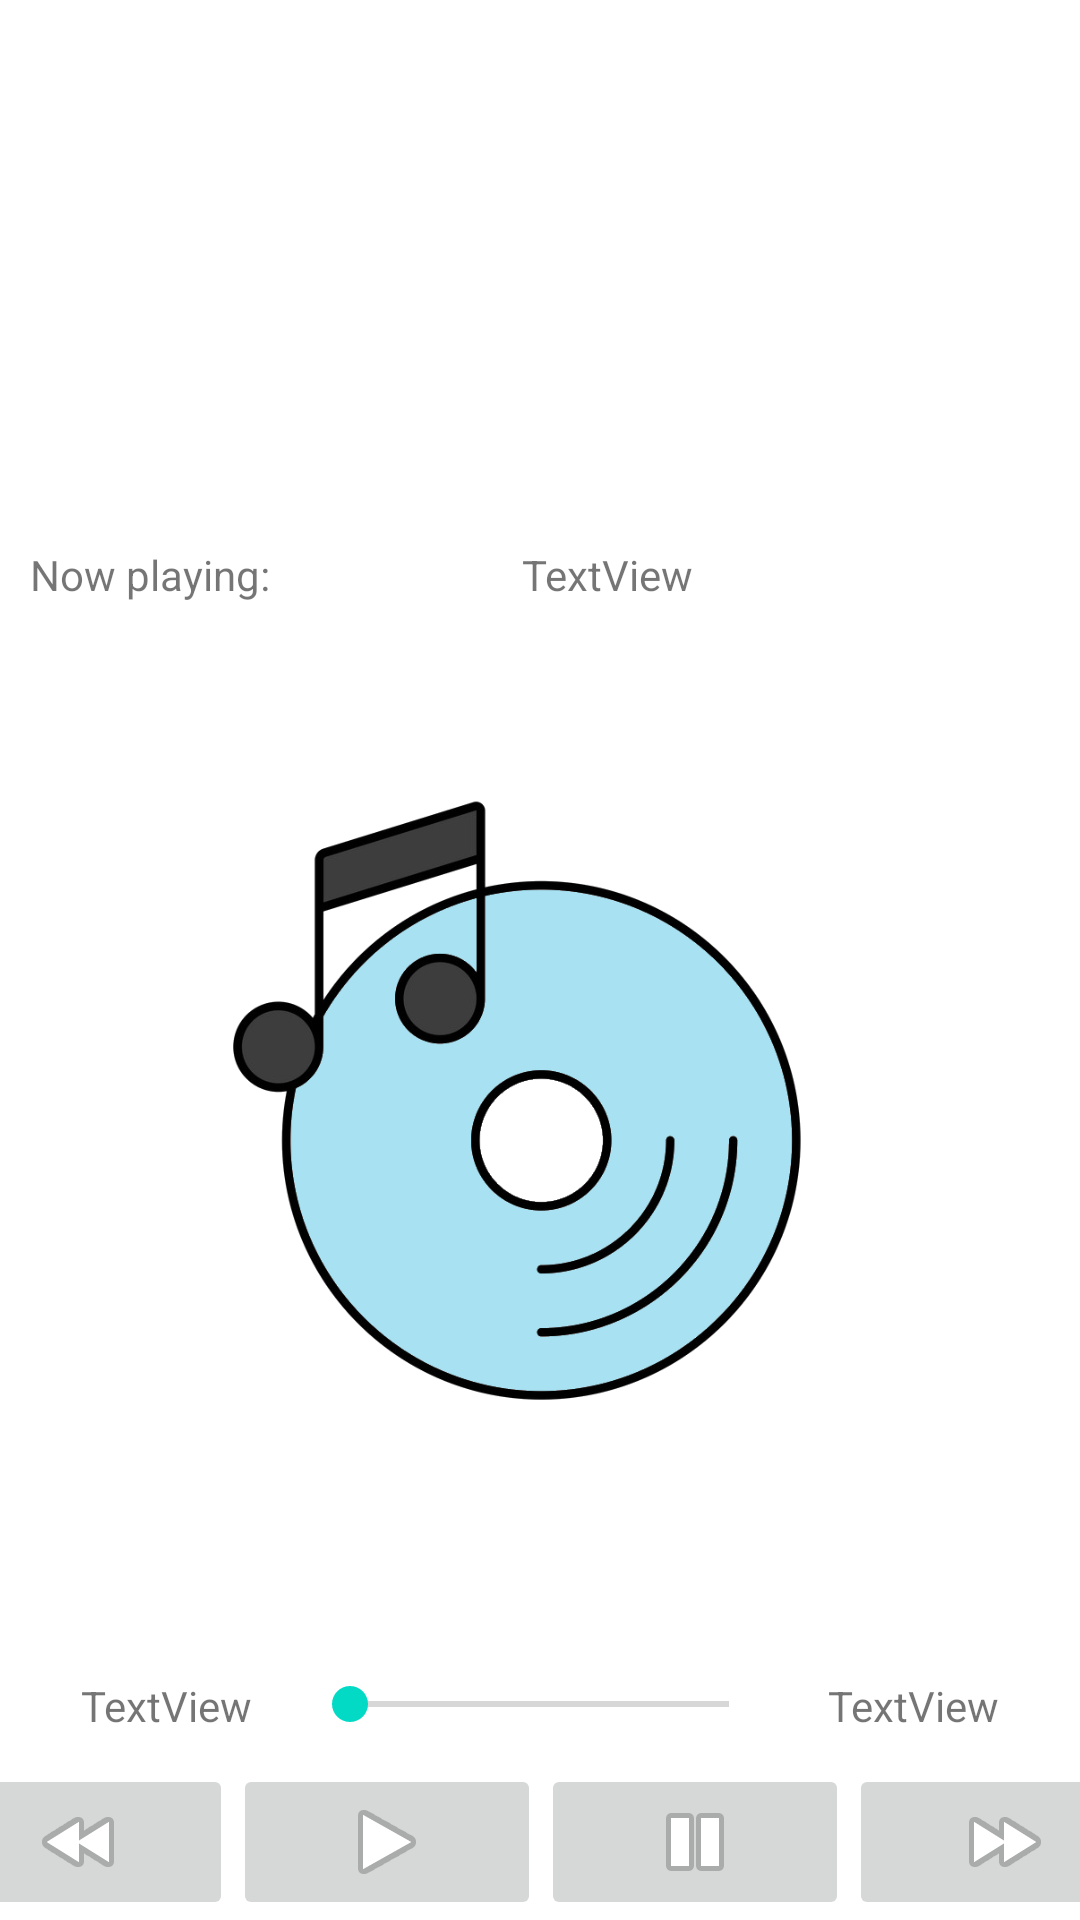

Screen size 1080 x 1920. Icon name, then its box in pixels as (x1, y1, x2, y2):
pause: (553, 1782, 837, 1902)
play: (245, 1782, 529, 1902)
